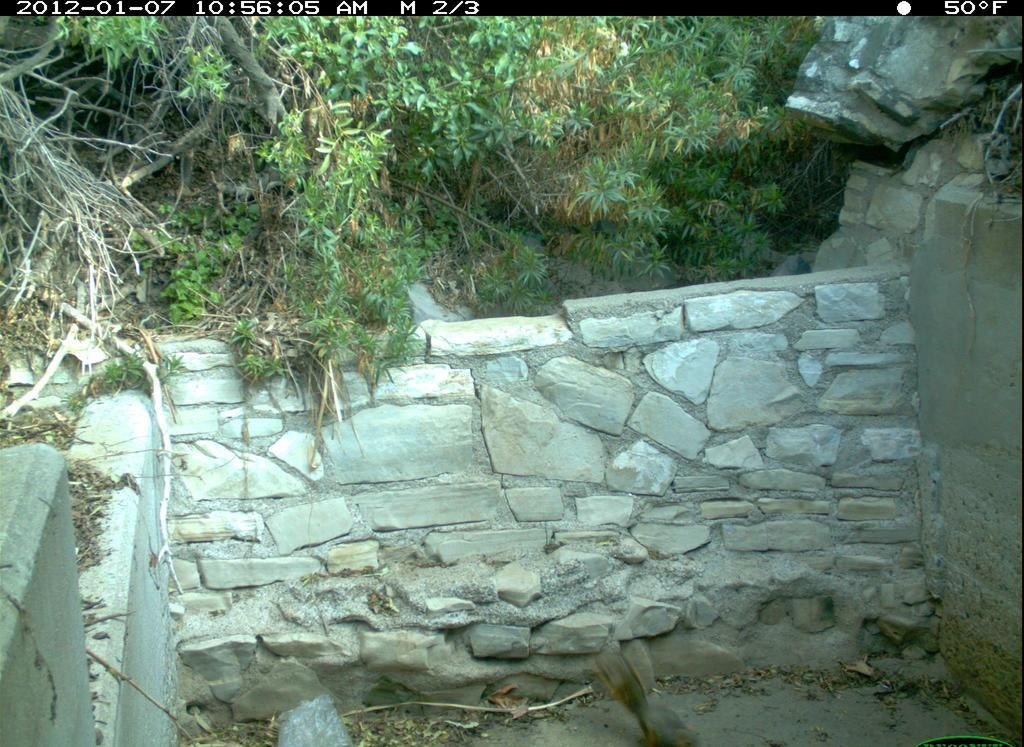squirrel: (583, 634, 716, 744)
